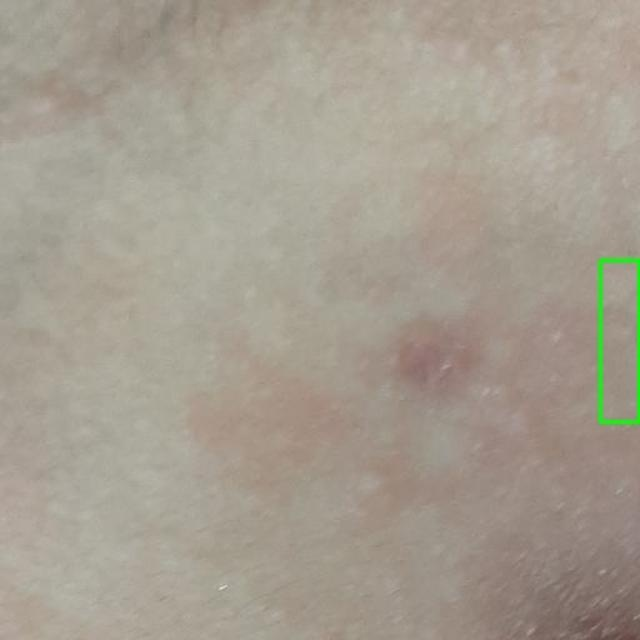Atopic Dermatitis: (600, 260, 639, 421)
